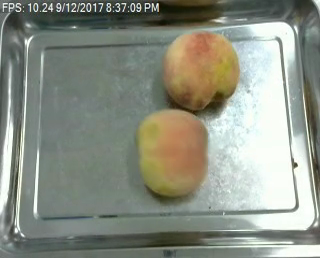Peach: (136, 108, 208, 197), (162, 30, 240, 110)
